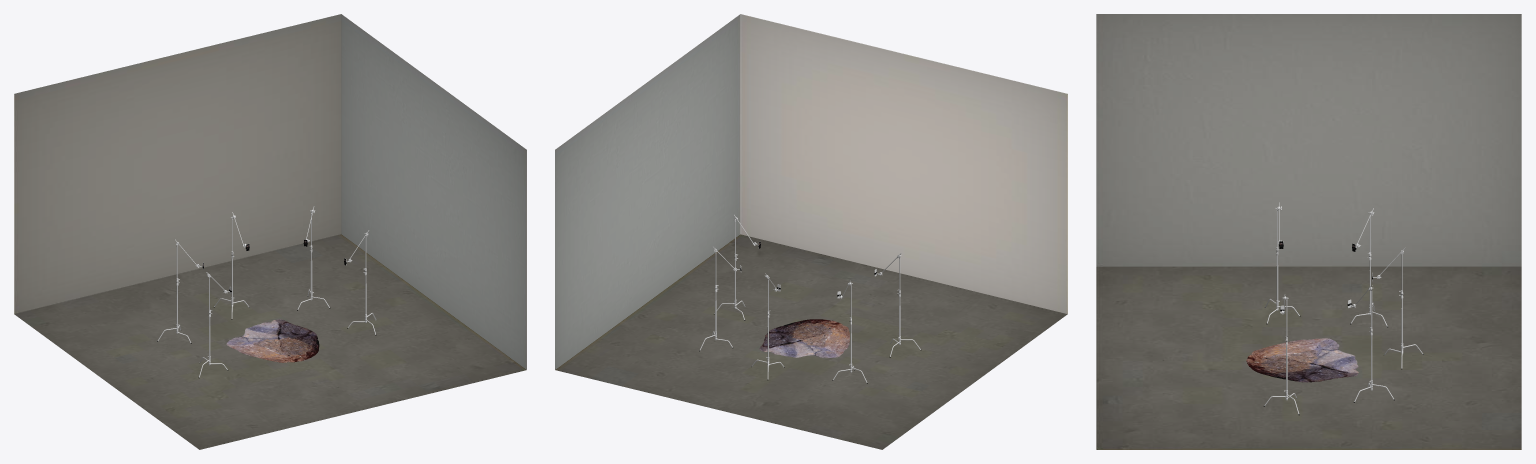
3 renders of one model, left to right at view 1: azimuth 30°, elevation 25°; view 2: azimuth 150°, elevation 25°; view 3: azimuth 270°, elevation 25°, orthographic. The views are drawn at different scales.
Parts seen in each view (by area): view 1: box, khs; view 2: box, khs; view 3: box, khs.
Part boxes in pixels (x1=…): box: x1=14, y1=14, x2=526, y2=449; khs: x1=226, y1=319, x2=319, y2=362; box: x1=555, y1=14, x2=1067, y2=449; khs: x1=759, y1=319, x2=849, y2=357; box: x1=1096, y1=14, x2=1521, y2=449; khs: x1=1246, y1=338, x2=1358, y2=382.
Bounding box in the file's own units: 9.86 × 6.34 × 9.68.
7 materials, 5 textured.
